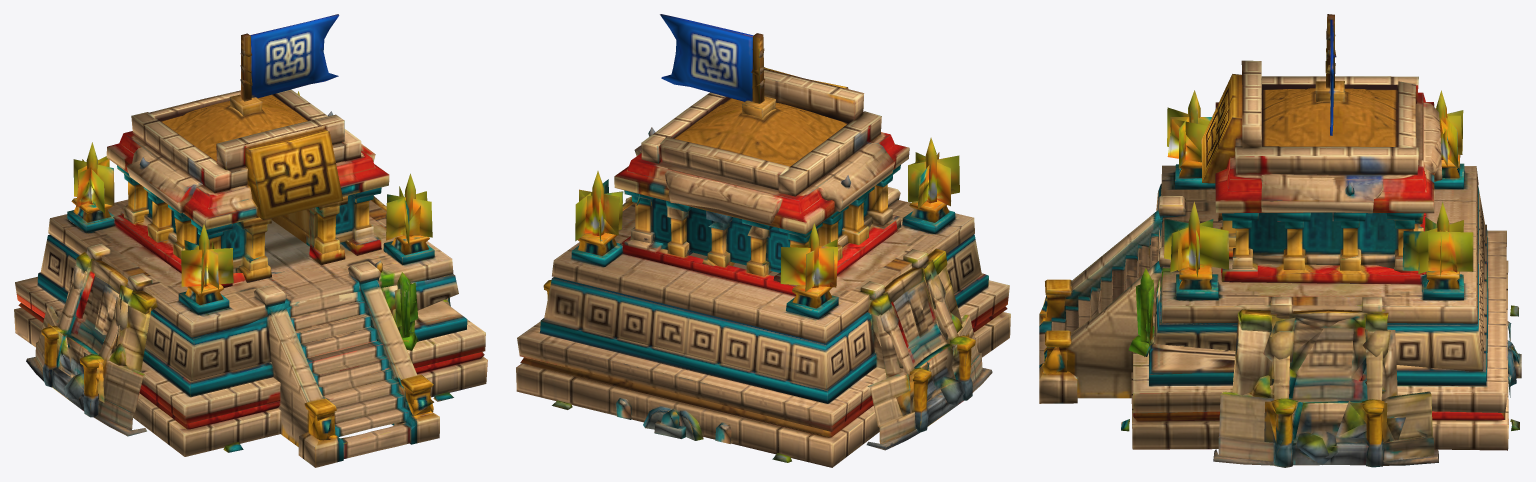
The model's file is nivel4.glb.
The picture shows the model from 3 angles, left to right: view 1: azimuth 30°, elevation 25°; view 2: azimuth 150°, elevation 25°; view 3: azimuth 270°, elevation 25°; orthographic projection. The views are drawn at different scales.
Bounding box in the file's own units: 0.9805 × 0.8137 × 1.
Materials: 1 (1 with a texture image).
